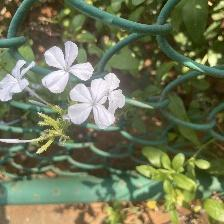chitrak: (67, 79, 120, 135), (41, 41, 95, 90), (1, 62, 36, 100)
